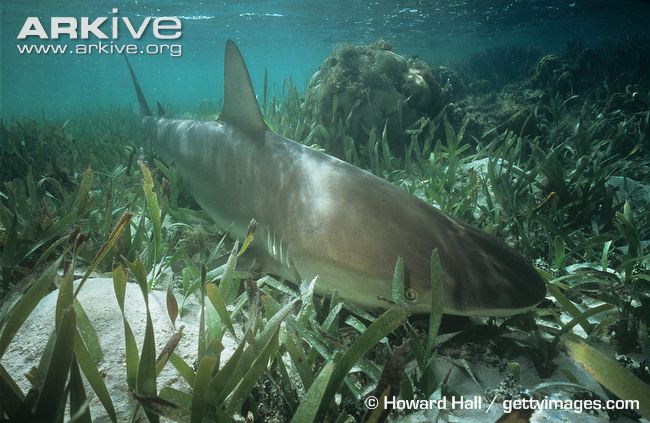shark: (96, 36, 578, 337)
